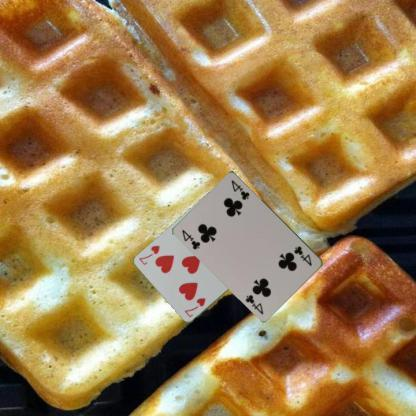4c: (179, 226, 202, 251), (292, 243, 314, 268)
7h: (182, 295, 207, 319)
